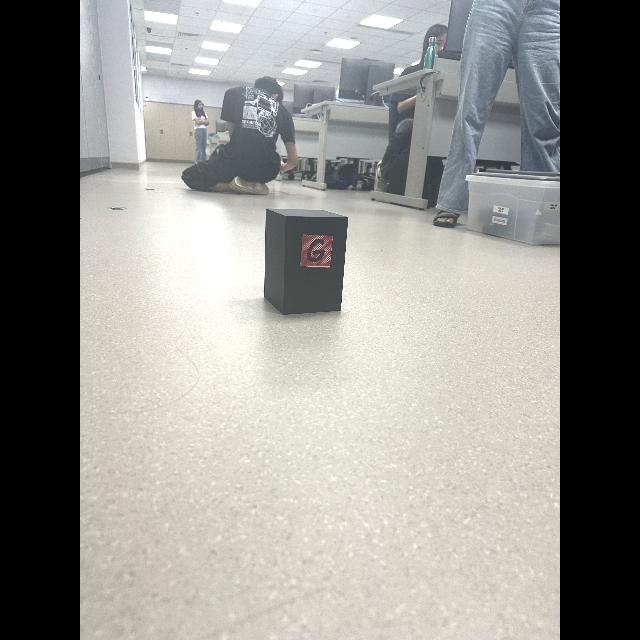G: (307, 239, 326, 262)
